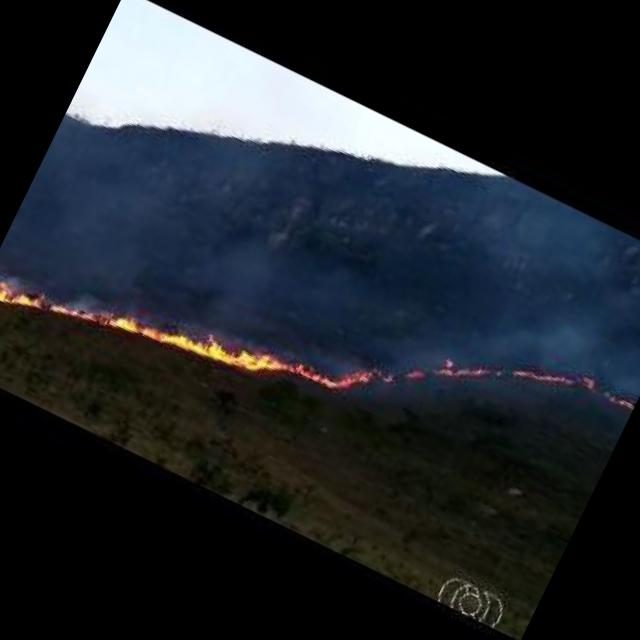fire: (113, 280, 288, 395), (286, 331, 373, 398), (437, 344, 500, 394), (0, 260, 49, 323), (511, 352, 577, 396), (52, 294, 110, 332)
